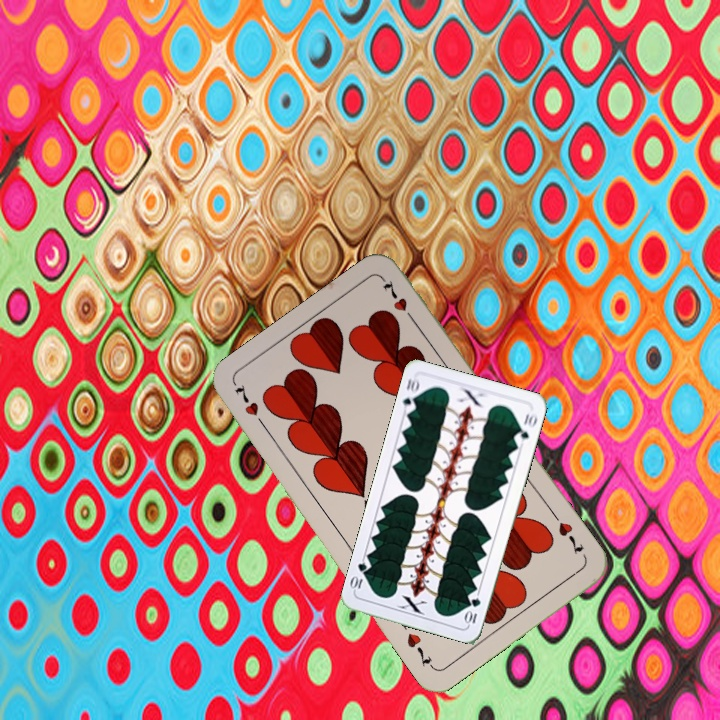G10: (399, 374, 422, 415), (462, 594, 483, 628)
H7: (231, 380, 270, 432), (548, 509, 587, 558)
